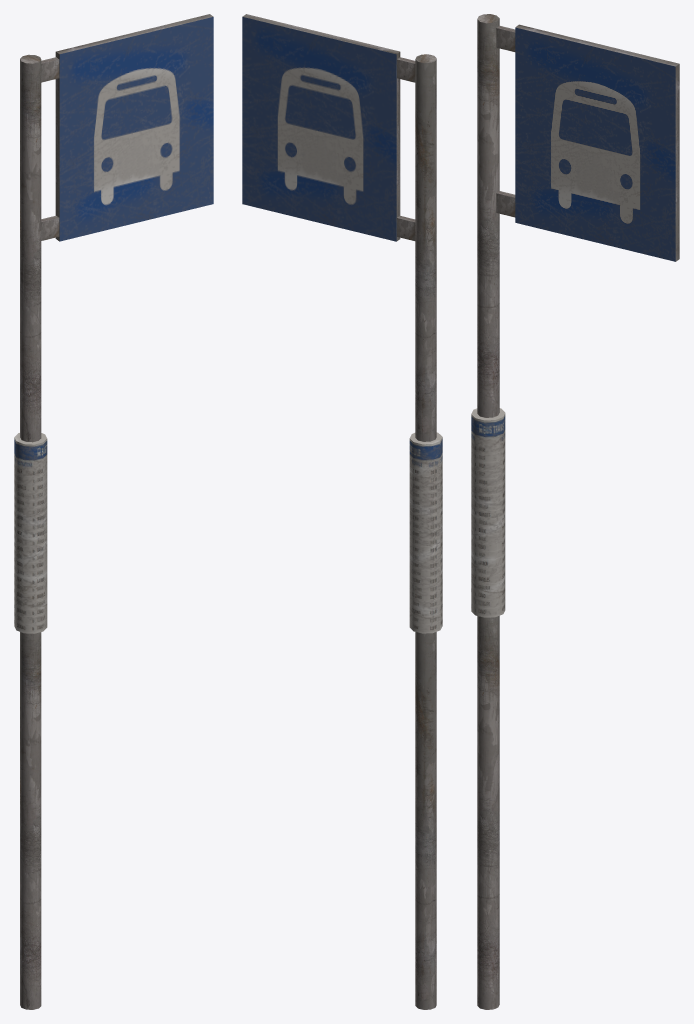
Rendered from Bus Stop.FBX.
The picture shows the model from 3 angles, left to right: view 1: azimuth 30°, elevation 25°; view 2: azimuth 150°, elevation 25°; view 3: azimuth 330°, elevation 25°; orthographic projection. The views are drawn at different scales.
Parts seen in each view (by area): view 1: Box001, Cylinder001; view 2: Box001, Cylinder001; view 3: Box001, Cylinder001.
Part boxes in pixels (x1,y1,x2,y2): Box001: (41, 14, 213, 241); Cylinder001: (14, 54, 47, 1009); Box001: (242, 14, 415, 241); Cylinder001: (409, 54, 442, 1009); Box001: (496, 24, 679, 261); Cylinder001: (471, 14, 505, 1009).
Size of the model in its own units: 21.63 by 99.95 by 3.01.
